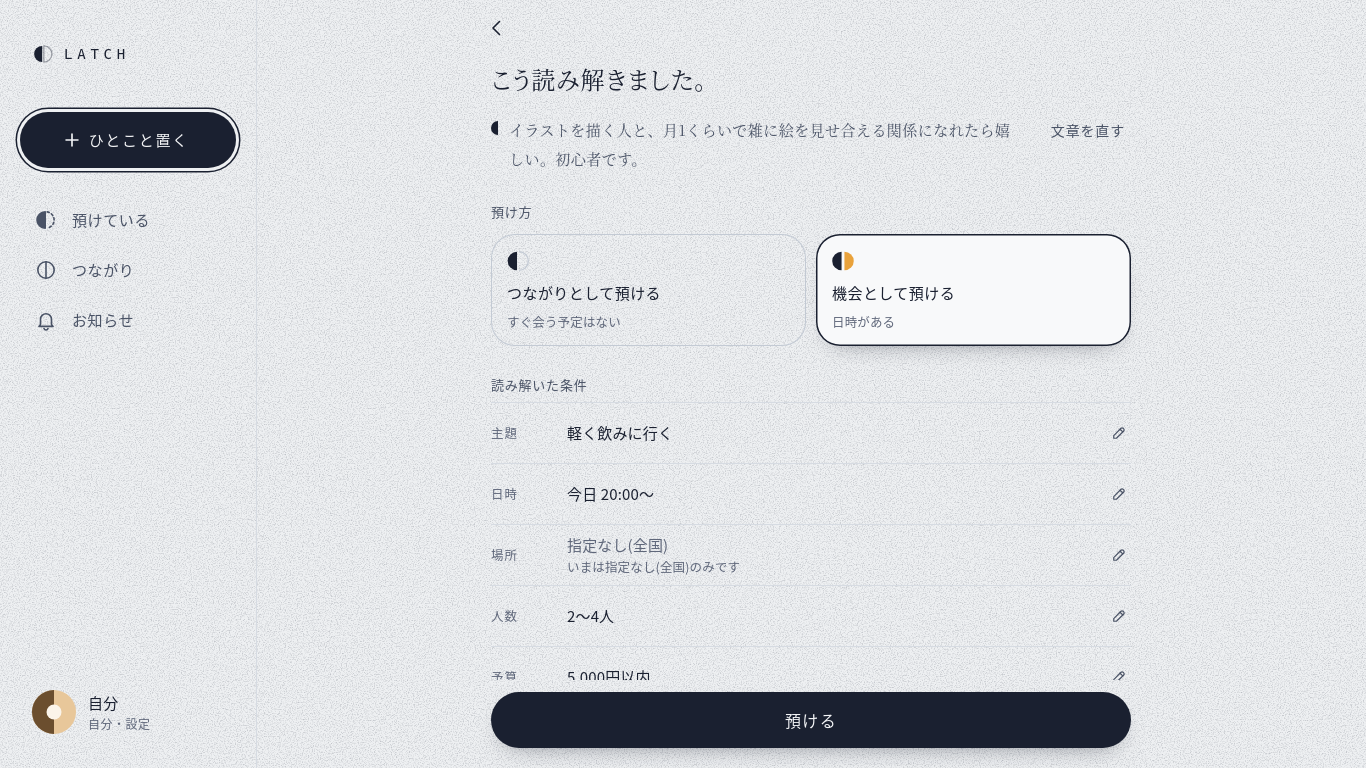
Confirm(form切替) › 機会→つながりで日時欄が消え・期限のpillsに替わる
Click the button named "日時を直す": (1119, 494) [1097,472,1141,516]
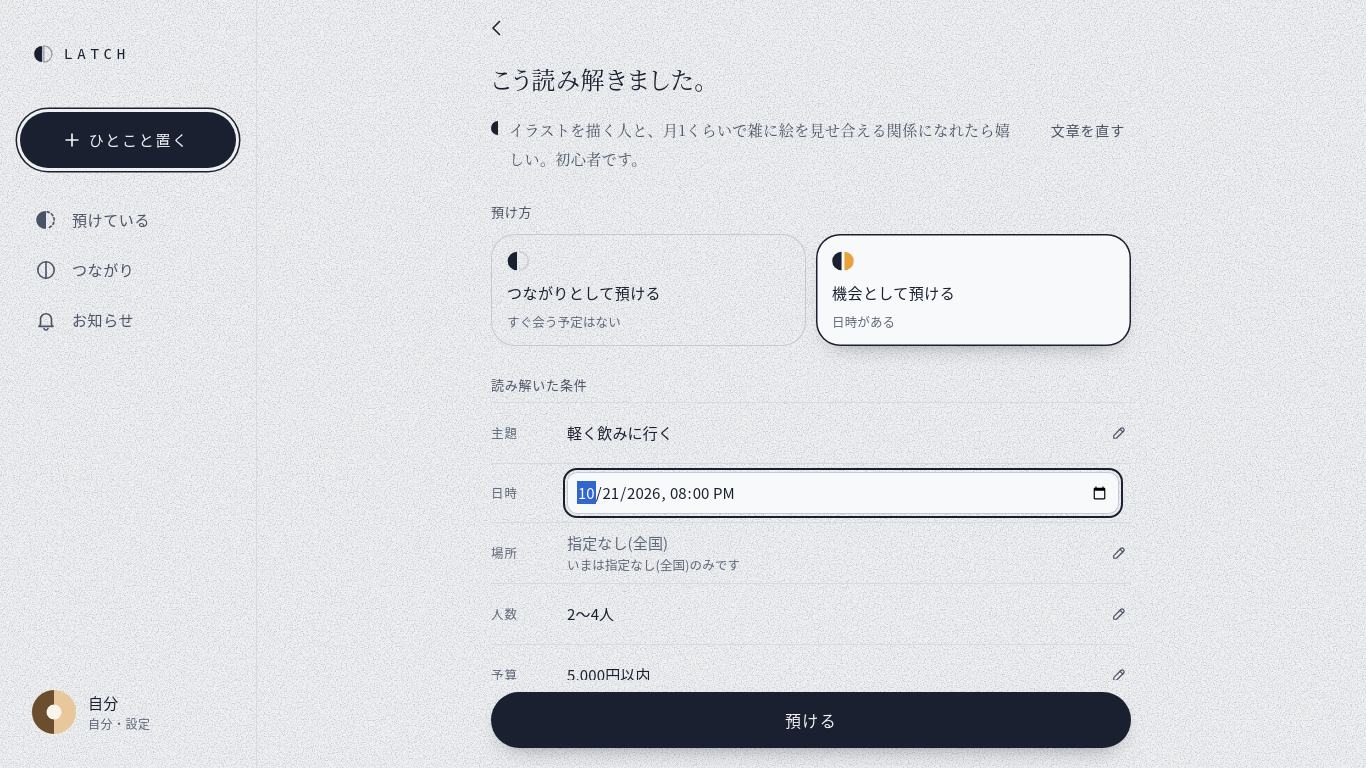
Now the field named "日時" holds "2026-10-21T20:00", box [567,472,1119,514]
Click the radio button labelled "つながりとして預ける すぐ会う予定はない": (648, 290) [491,234,806,346]
(page scrolled)
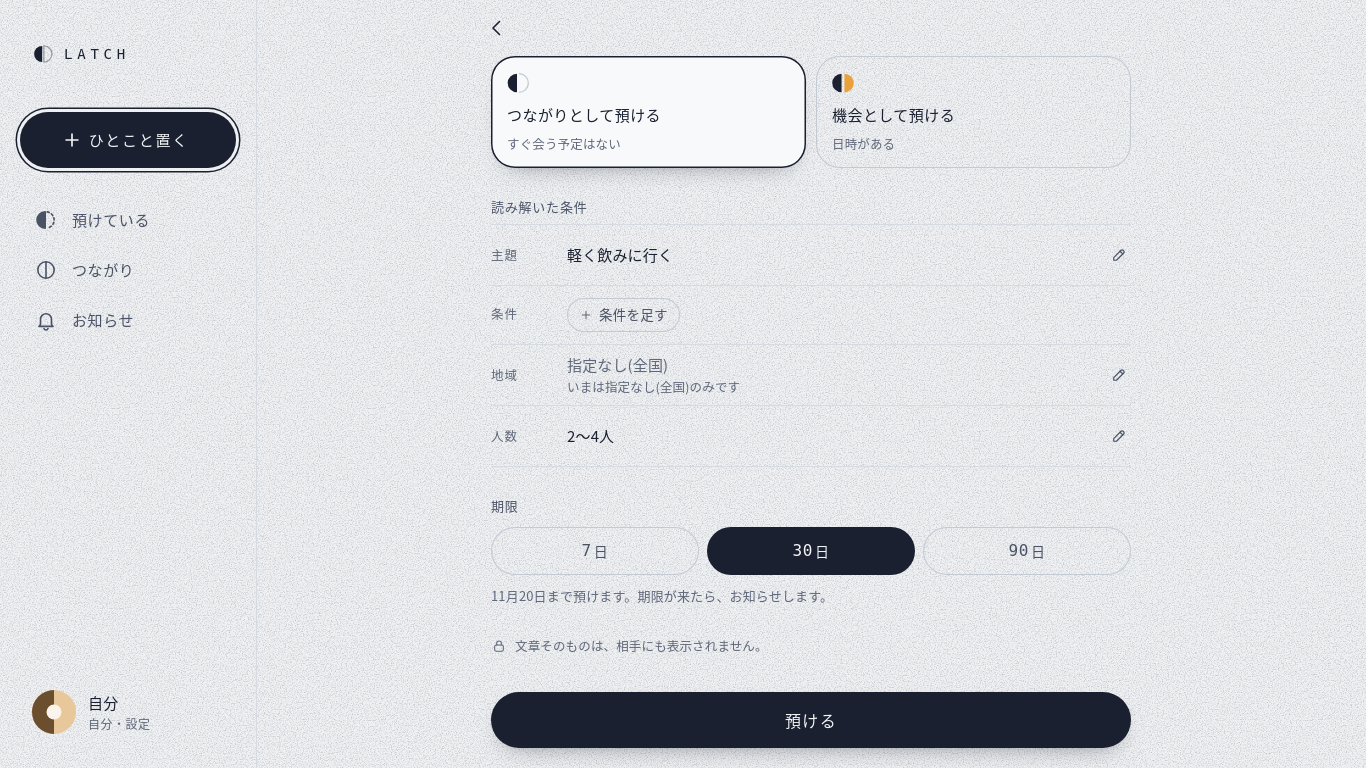
Now the text "予算" is gone
Now the radio button labelled "30 日" is shown, box [707,528,915,576]
Now the text "11月20日まで預けます。期限が来たら、お知らせします。" is shown, box [491,586,833,606]
